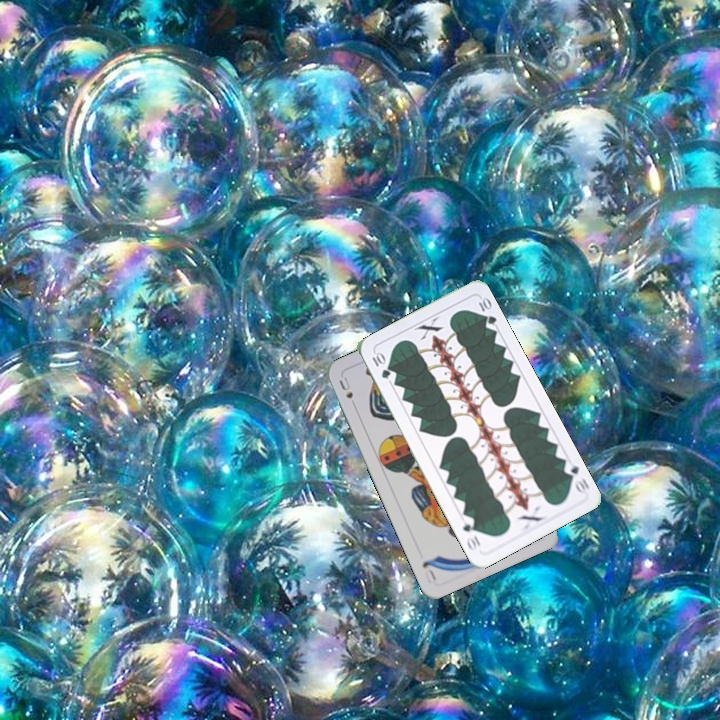G10: (559, 457, 592, 497), (368, 348, 393, 381)
SU: (335, 373, 355, 401)
